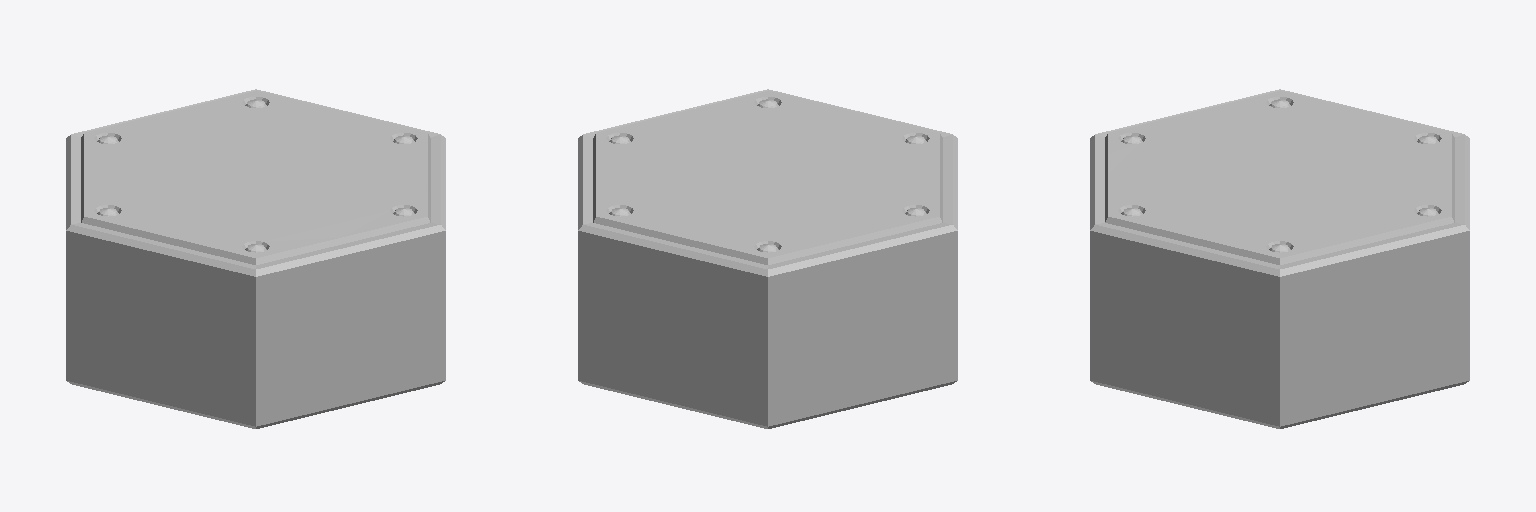
File: Tile01.obj
3 views of the same model, side by side, from view 1: azimuth 30°, elevation 25°; view 2: azimuth 150°, elevation 25°; view 3: azimuth 270°, elevation 25° (orthographic).
Visible parts, largest first — view 1: mesh01; view 2: mesh01; view 3: mesh01.
Boxes of the visible parts, x1=… form: mesh01: x1=66, y1=89, x2=445, y2=428; mesh01: x1=578, y1=89, x2=957, y2=428; mesh01: x1=1090, y1=89, x2=1469, y2=428.
Size of the model in its own units: 10.88 by 4.56 by 9.42.